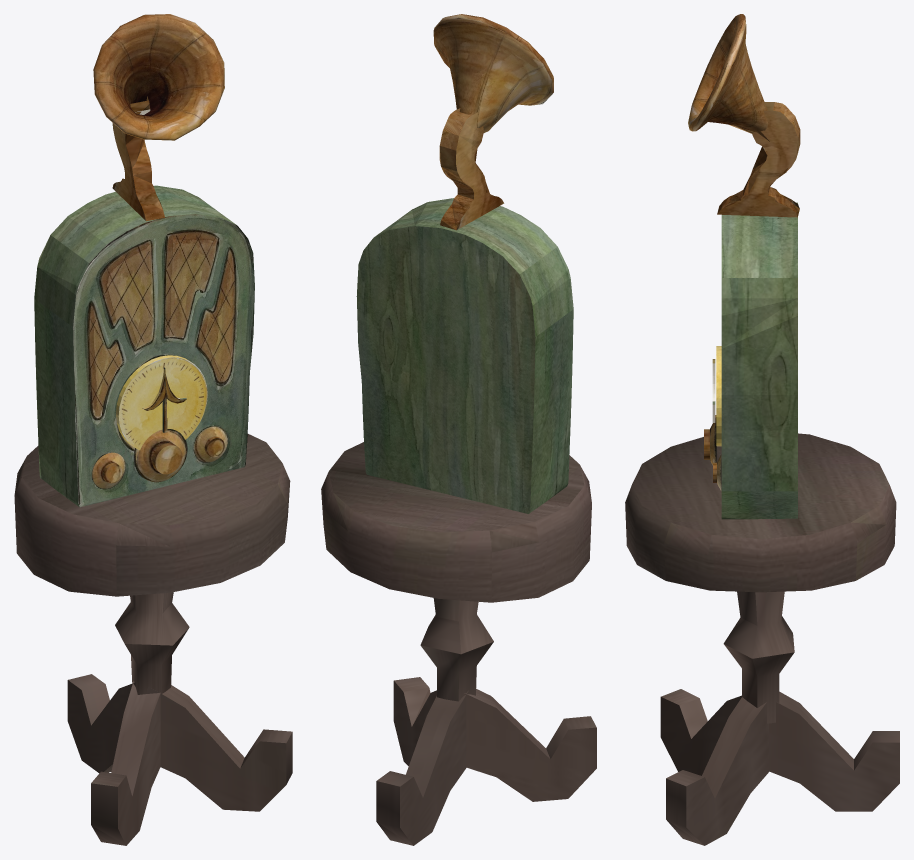
File: radio.obj
3 views of the same model, side by side, from view 1: azimuth 30°, elevation 25°; view 2: azimuth 150°, elevation 25°; view 3: azimuth 270°, elevation 25° (orthographic). The views are drawn at different scales.
Parts seen in each view (by area): view 1: Cube, part4_texture4.001, part3_texture3.001, Trumpet_msh, Plane, Cube.001; view 2: Cube, part4_texture4.001, part3_texture3.001, Trumpet_msh, Plane; view 3: part4_texture4.001, part3_texture3.001, Cube, Trumpet_msh, Plane.
Part boxes in pixels (x1,y1,x2,y2): Cube: (34, 185, 254, 507); part4_texture4.001: (14, 434, 290, 772); part3_texture3.001: (67, 592, 292, 845); Trumpet_msh: (93, 14, 224, 140); Plane: (112, 96, 164, 221); Cube.001: (142, 367, 186, 432); Cube: (356, 198, 573, 513); part4_texture4.001: (321, 442, 591, 602); part3_texture3.001: (376, 598, 596, 845); Trumpet_msh: (433, 14, 553, 132); Plane: (439, 108, 504, 230); part4_texture4.001: (625, 433, 896, 592); part3_texture3.001: (660, 591, 899, 845); Cube: (704, 202, 797, 519); Trumpet_msh: (688, 14, 769, 141); Plane: (717, 102, 800, 217).
Size of the model in its own units: 1.39 by 4.4 by 1.41.
